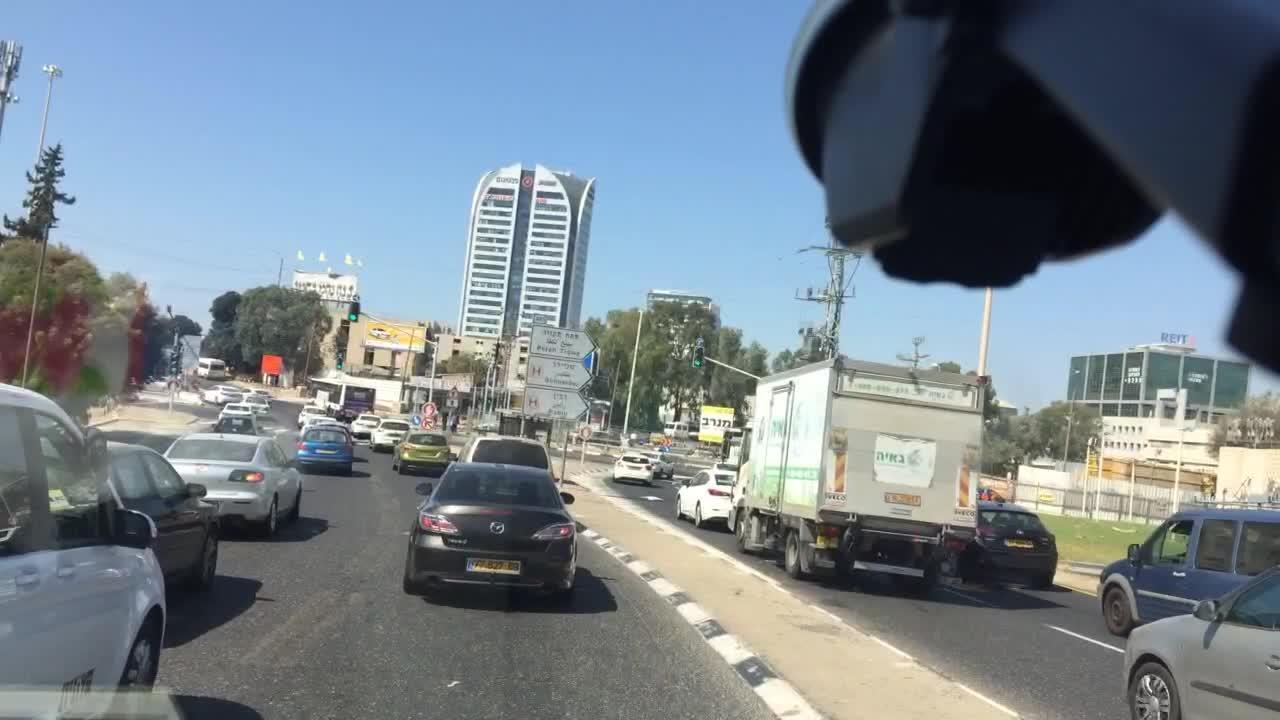Mazda: (483, 513, 511, 541)
